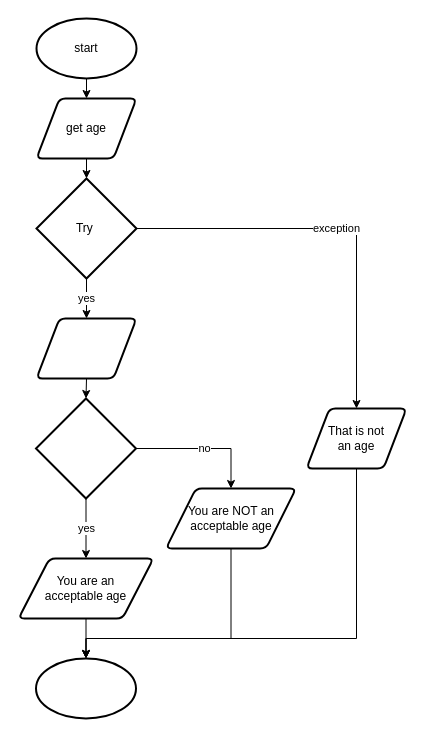
Image size: 424x736. Some labels were removed from this diagram. The shapes that lost their labels are listed below. From the top down, each one's centre as x and y in pixels, then its label:
At [86,348]: "Convert age to integer".
At [85,448]: "if age > 25 && age < 40".
At [85,688]: "Stop".
